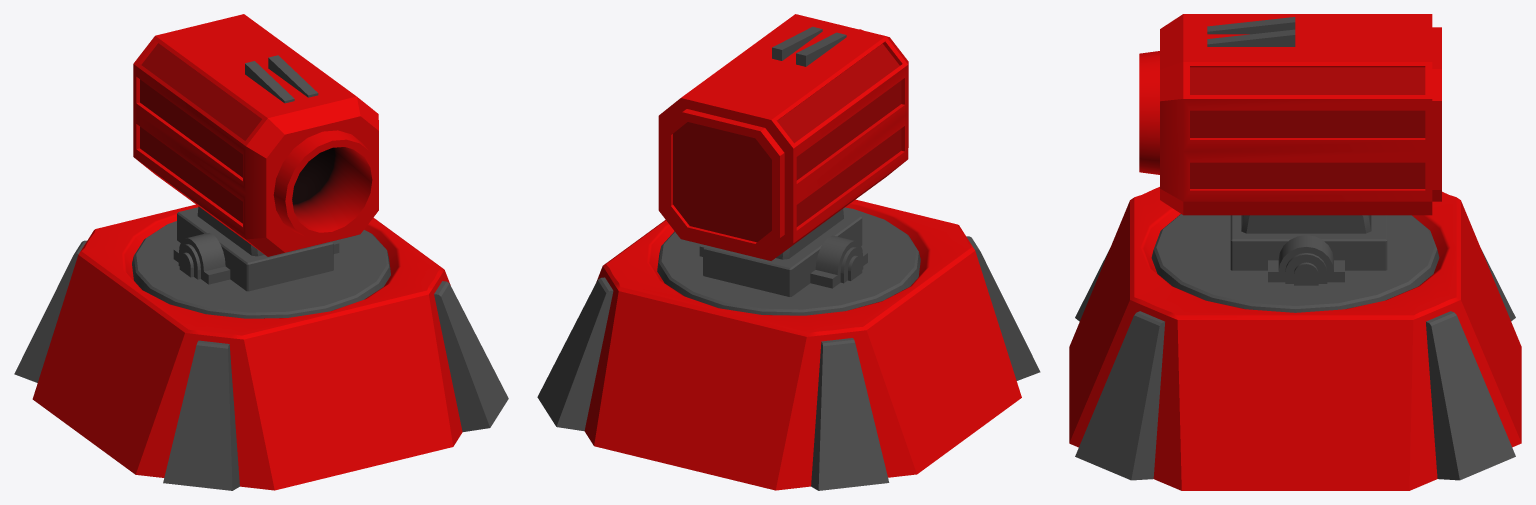
File: Turret.fbx
The picture shows the model from 3 angles, left to right: view 1: azimuth 30°, elevation 25°; view 2: azimuth 150°, elevation 25°; view 3: azimuth 270°, elevation 25°; orthographic projection. The views are drawn at different scales.
Parts seen in each view (by area): view 1: base, gun, rotator, edges, sight, neck; view 2: base, gun, rotator, edges, sight, neck; view 3: base, gun, rotator, edges, neck, sight.
Boxes of the visible parts, <box> form: base: <box>32,204,462,490</box>; gun: <box>133,14,378,256</box>; rotator: <box>132,207,390,318</box>; edges: <box>14,240,508,490</box>; sight: <box>245,55,318,103</box>; neck: <box>197,206,264,256</box>; base: <box>584,199,1021,490</box>; gun: <box>658,14,908,260</box>; rotator: <box>657,207,920,315</box>; edges: <box>537,236,1040,490</box>; sight: <box>772,26,846,66</box>; neck: <box>776,209,843,259</box>; base: <box>1069,187,1521,490</box>; gun: <box>1139,14,1441,215</box>; rotator: <box>1151,214,1439,312</box>; edges: <box>1075,249,1515,480</box>; neck: <box>1241,215,1371,233</box>; sight: <box>1207,17,1295,46</box>.
Bounding box in the file's own units: 4.34 × 3.91 × 4.34.
